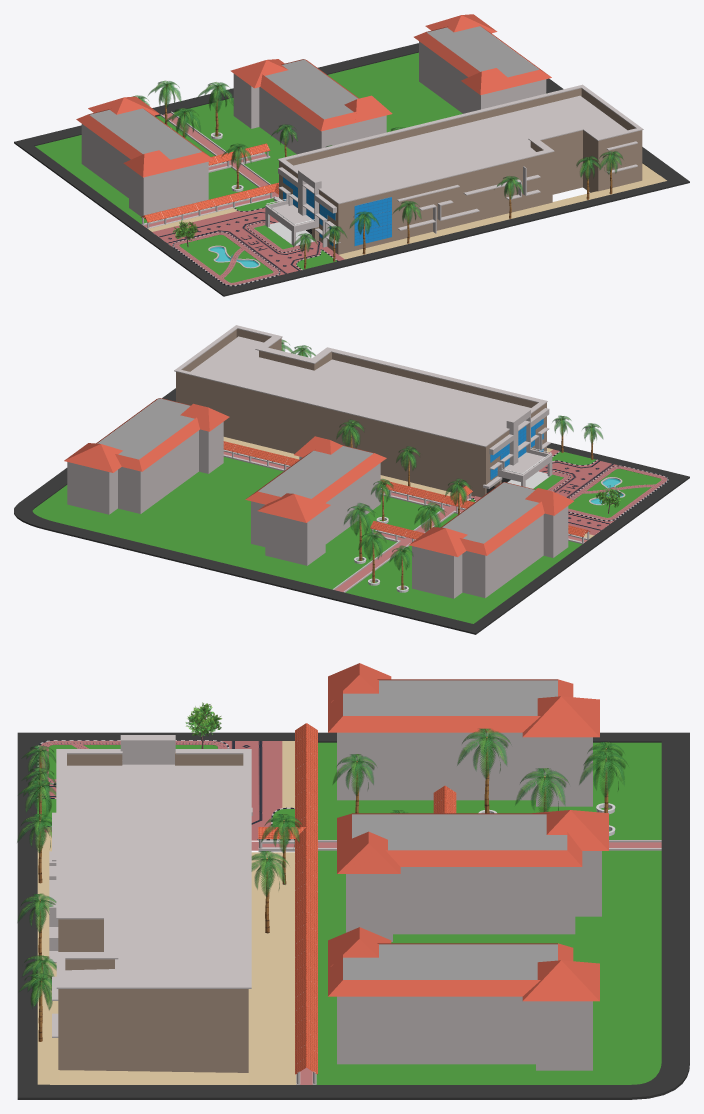
File: mec.glb
3 views of the same model, one above another, from view 1: azimuth 30°, elevation 25°; view 2: azimuth 150°, elevation 25°; view 3: azimuth 270°, elevation 25° (orthographic). The views are drawn at different scales.
Visible parts, largest first — view 1: Plane.003, Cube.013, Cube.017, Plane.016, road.001, Plane.007, sand, Cube.030, Cube, Plane.013, path1, Cube.033 (+8 smaller); view 2: Plane.003, Plane.016, Cube.017, Cube.013, road.001, Cube.030, Cube, Plane.007, Plane.013, path1, sand, Cylinder.021 (+6 smaller); view 3: Plane.003, Cube.017, Plane.016, road.001, Cube.013, sand, Cube.030, Plane.007, Cube, Cylinder.018, Cylinder.021, Cylinder.020 (+14 smaller).
Part boxes in pixels (left/top/right/bottom): Plane.003: left=76, top=14, right=551, bottom=216; Cube.013: left=286, top=88, right=642, bottom=253; Cube.017: left=277, top=84, right=643, bottom=202; Plane.016: left=35, top=52, right=462, bottom=282; road.001: left=14, top=43, right=689, bottom=296; Plane.007: left=152, top=208, right=344, bottom=275; sand: left=148, top=163, right=666, bottom=259; Cube.030: left=141, top=111, right=278, bottom=228; Cube: left=265, top=168, right=321, bottom=246; Plane.013: left=143, top=113, right=278, bottom=227; path1: left=173, top=232, right=279, bottom=285; Cube.033: left=208, top=143, right=270, bottom=172; Plane.003: left=64, top=398, right=573, bottom=598; Plane.016: left=32, top=451, right=661, bottom=623; Cube.017: left=174, top=325, right=543, bottom=447; Cube.013: left=176, top=329, right=537, bottom=497; road.001: left=14, top=388, right=689, bottom=634; Cube.030: left=223, top=441, right=590, bottom=592; Cube: left=497, top=408, right=552, bottom=486; Plane.007: left=473, top=449, right=618, bottom=535; Plane.013: left=223, top=451, right=587, bottom=591; path1: left=568, top=466, right=667, bottom=520; sand: left=223, top=437, right=593, bottom=538; Cylinder.021: left=344, top=503, right=375, bottom=560; Plane.003: left=328, top=663, right=608, bottom=1070; Cube.017: left=56, top=749, right=251, bottom=988; Plane.016: left=37, top=742, right=661, bottom=1084; road.001: left=17, top=732, right=689, bottom=1099; Cube.013: left=58, top=919, right=248, bottom=1072; sand: left=37, top=741, right=296, bottom=1084; Cube.030: left=295, top=723, right=661, bottom=1084; Plane.007: left=38, top=741, right=282, bottom=840; Cube: left=120, top=735, right=175, bottom=764; Cylinder.018: left=457, top=728, right=511, bottom=813; Cylinder.021: left=515, top=768, right=568, bottom=812; Cylinder.020: left=579, top=751, right=628, bottom=812.
Size of the model in its own units: 81.38 by 10.99 by 63.71.
12 materials, 5 textured.
